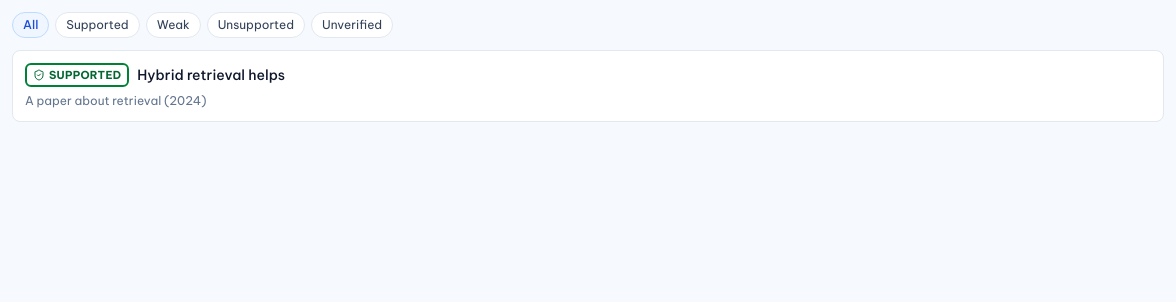
Test: the why-this-label page › shows the thresholds of that particular run, not today constants
The width and height of the screenshot is (1176, 302).
Click the button "Hybrid retrieval helps" at {"x": 77, "y": 75}, box top-left (13, 51), bottom-right (1163, 121)
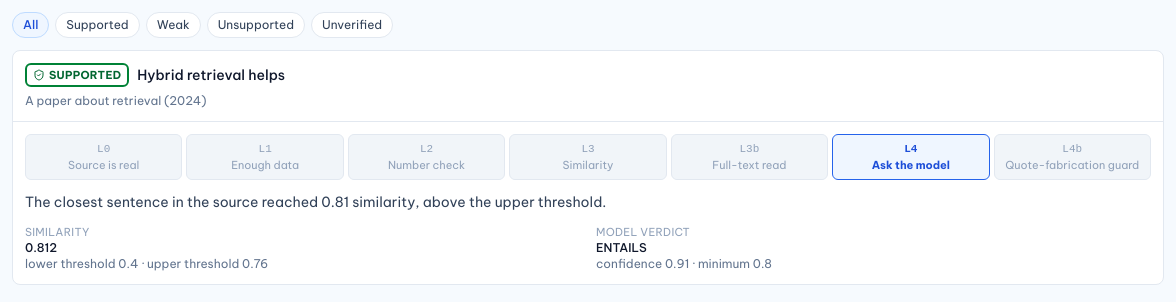
Check: the text "lower threshold 0.4 · upper threshold 0.76" is shown, box top-left (25, 256), bottom-right (268, 271)
Check: the text "confidence 0.91 · minimum 0.8" is shown, box top-left (596, 256), bottom-right (772, 271)
